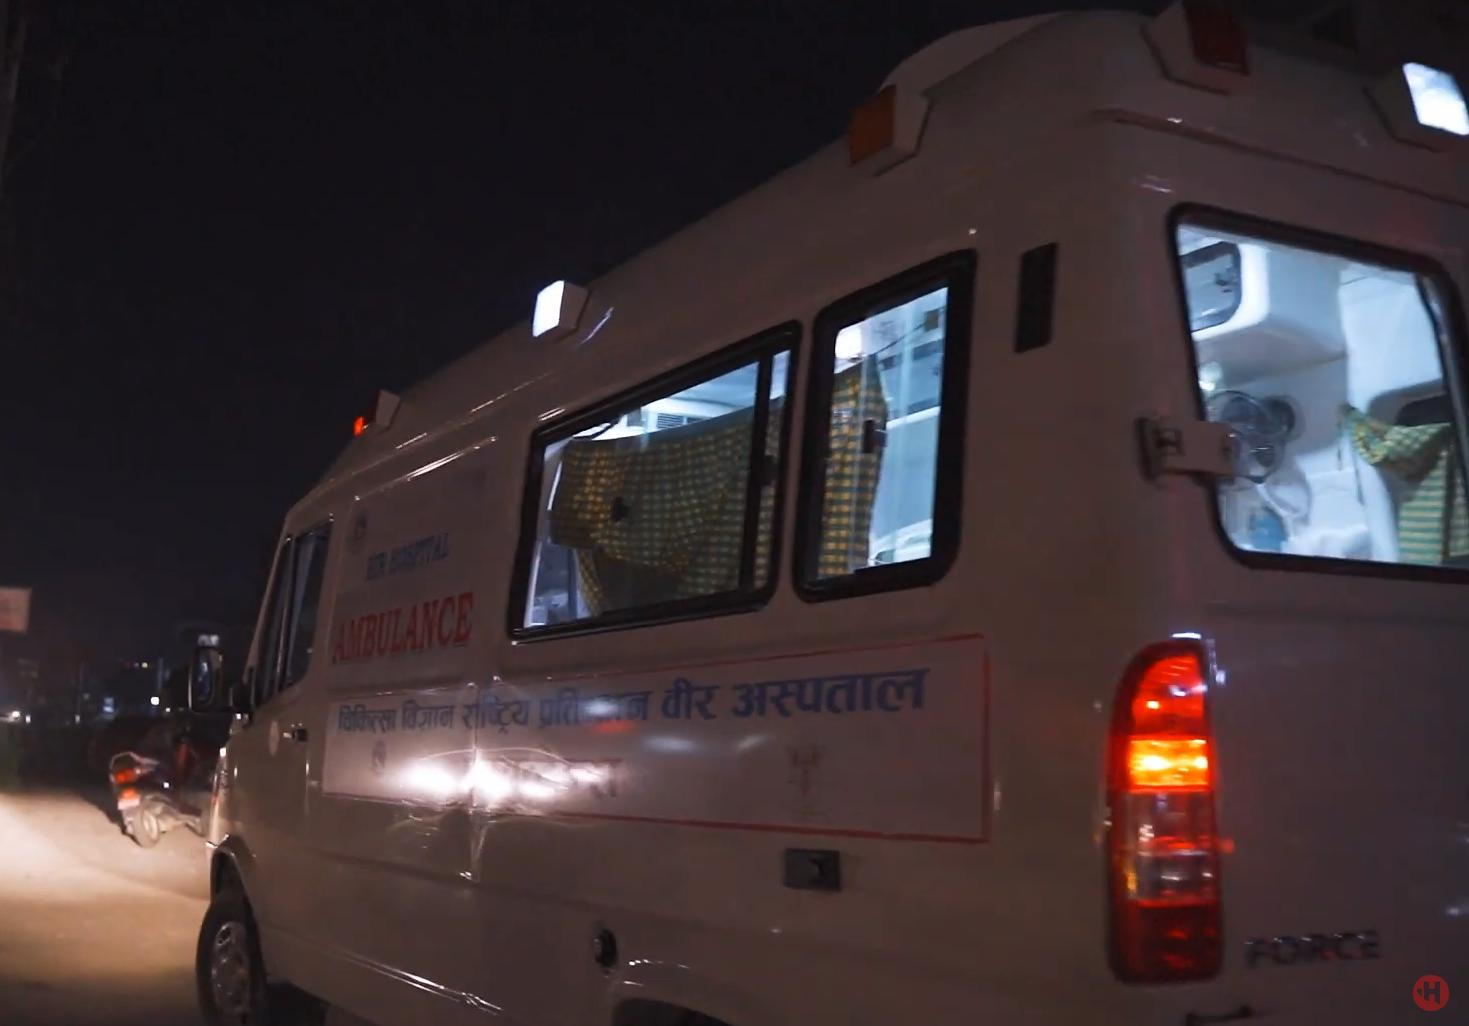ambulance: (169, 0, 1469, 1026)
